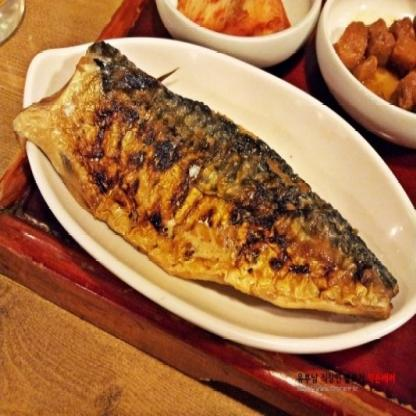Peixe: (10, 32, 395, 329)
